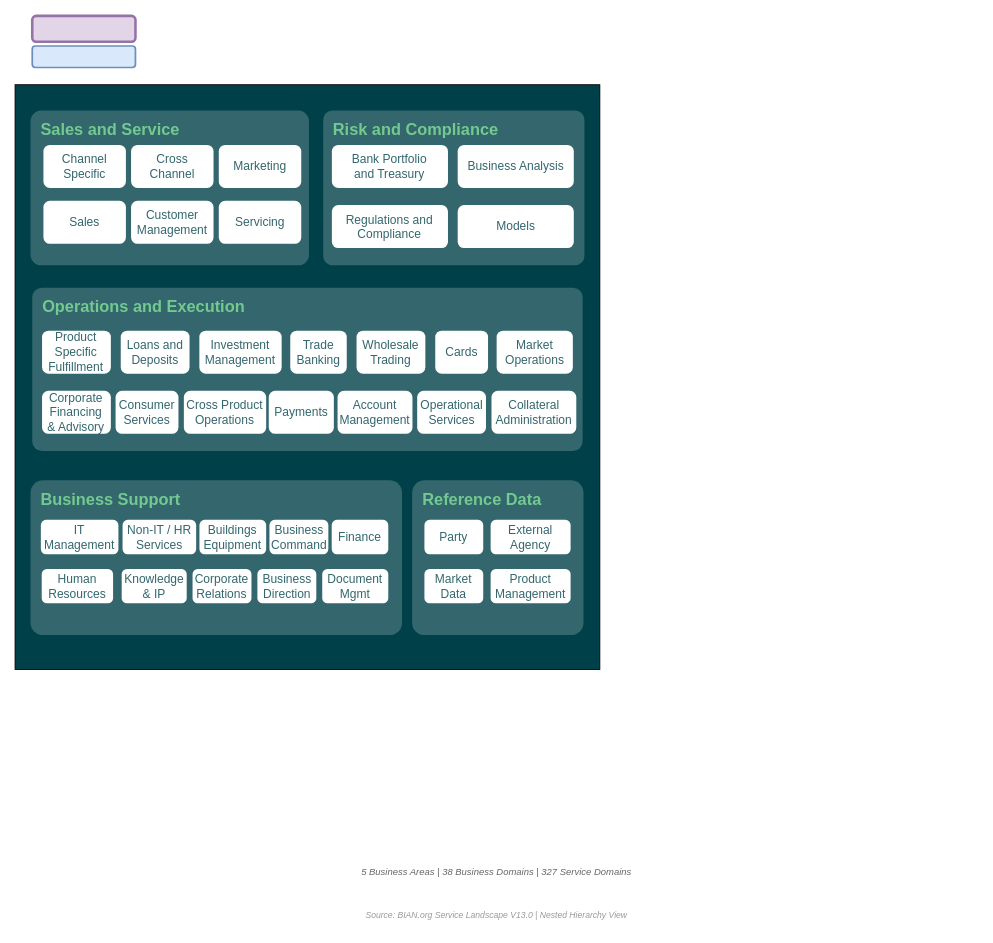
Image size: 993x943. Some labels were removed from this diagram. The shapes that lost their labels are listed below. From the top down, each one's centre as x and y in pixels, then its label:
At [83,28]: "Business Area".
At [83,56]: "Business Domain".
